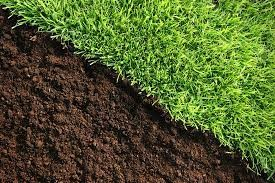dirt: (0, 18, 127, 179), (129, 95, 249, 181)
grass: (128, 1, 274, 176), (0, 2, 126, 55)
